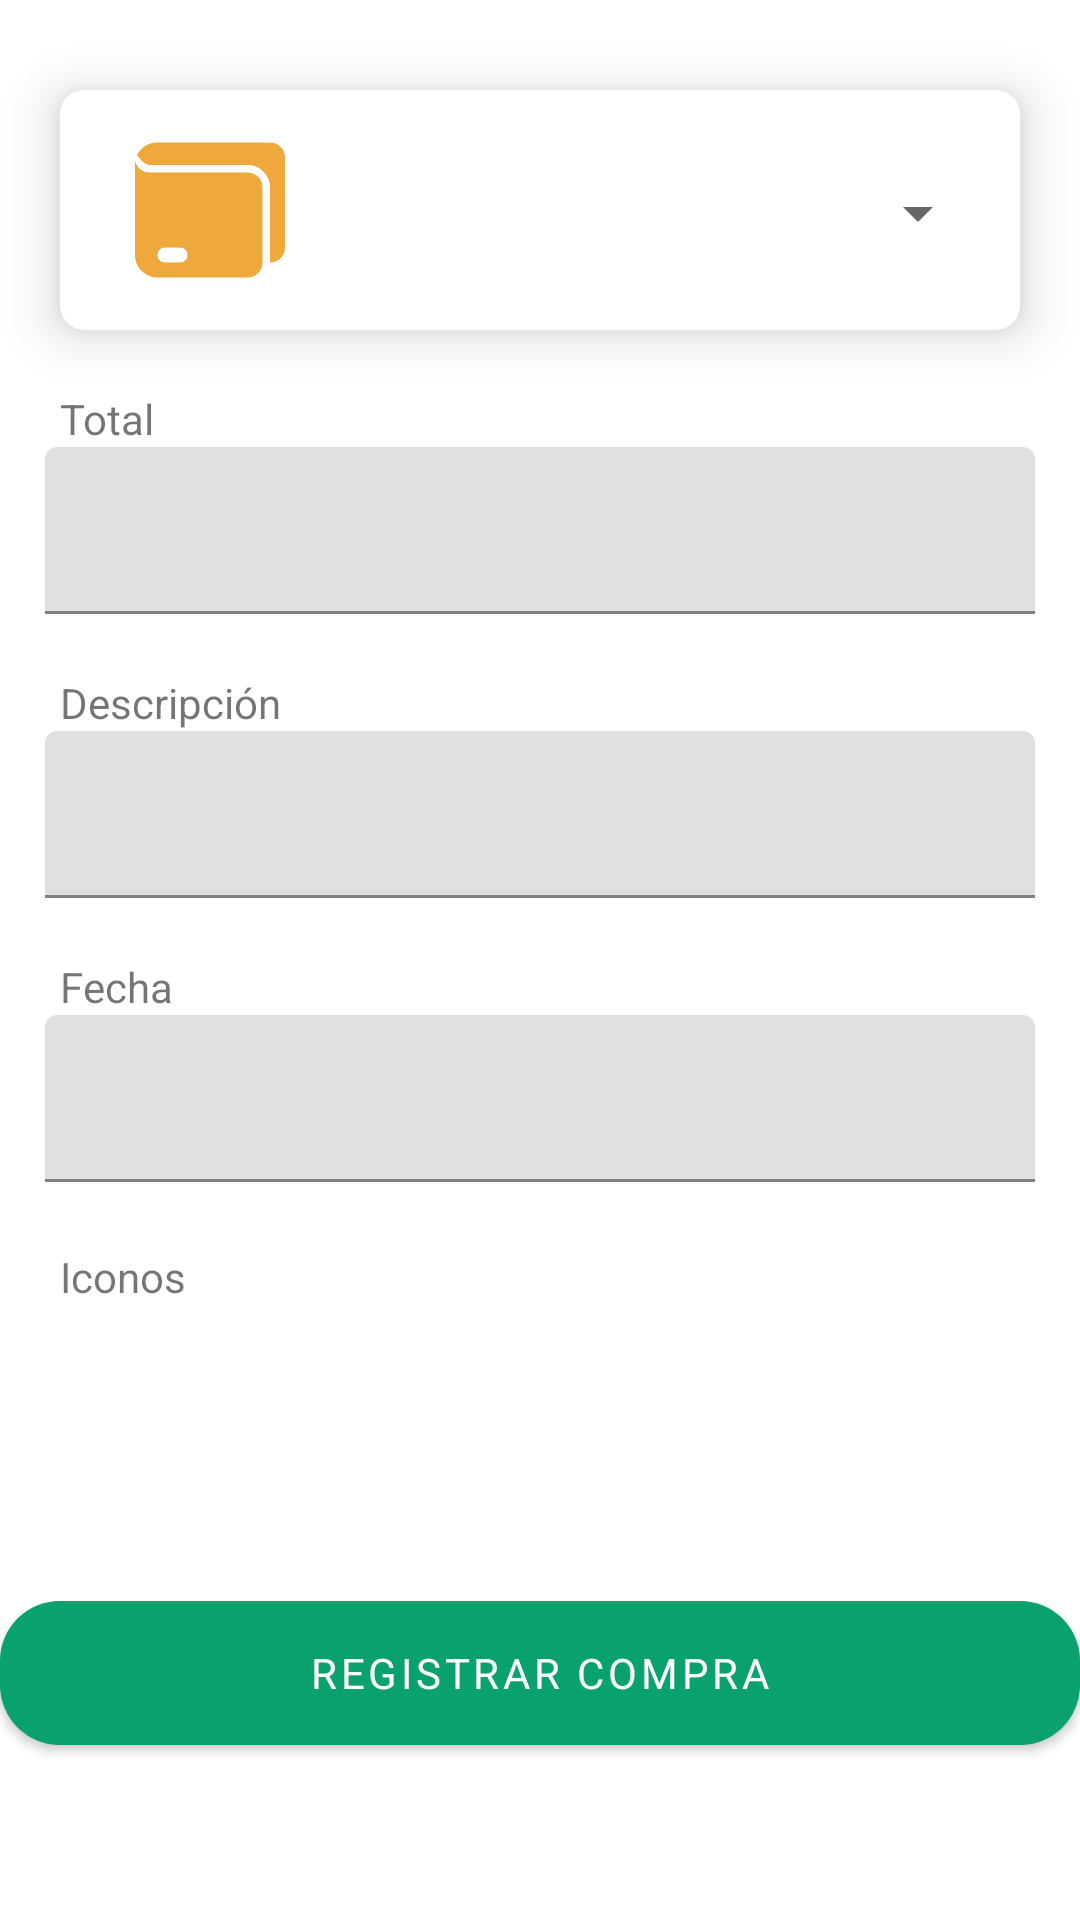

Icon click points for this 1080w x 1920h phone screenshot, format point (x, y):
wallet: point (210, 210)
